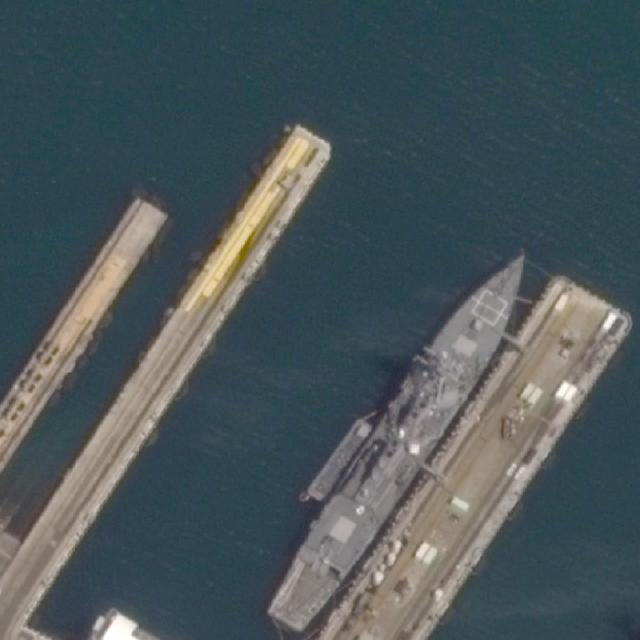Destroyer: (255, 232, 552, 637)
Dock: (2, 118, 335, 597), (348, 272, 637, 638), (1, 194, 171, 424)
